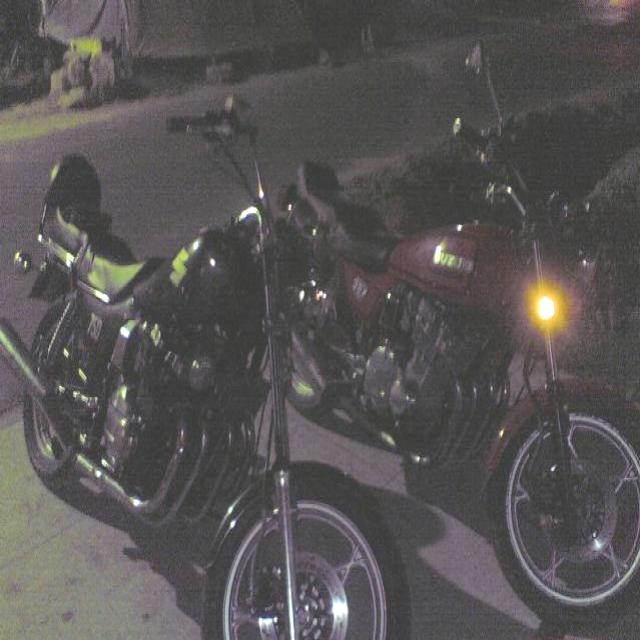Motorbike: (0, 91, 408, 640), (268, 39, 640, 640)
